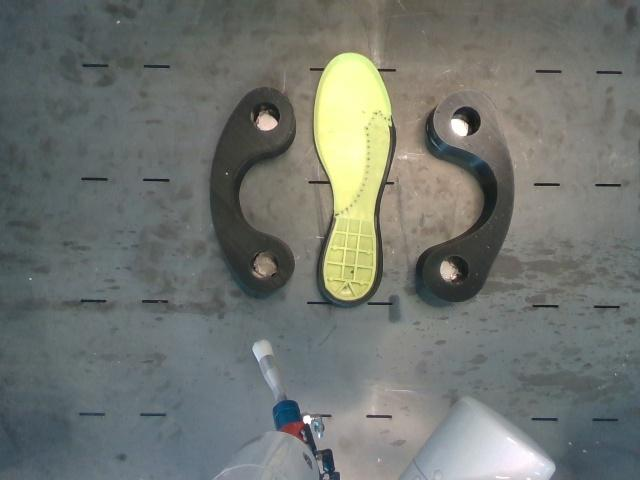shoes: (314, 53, 396, 307)
